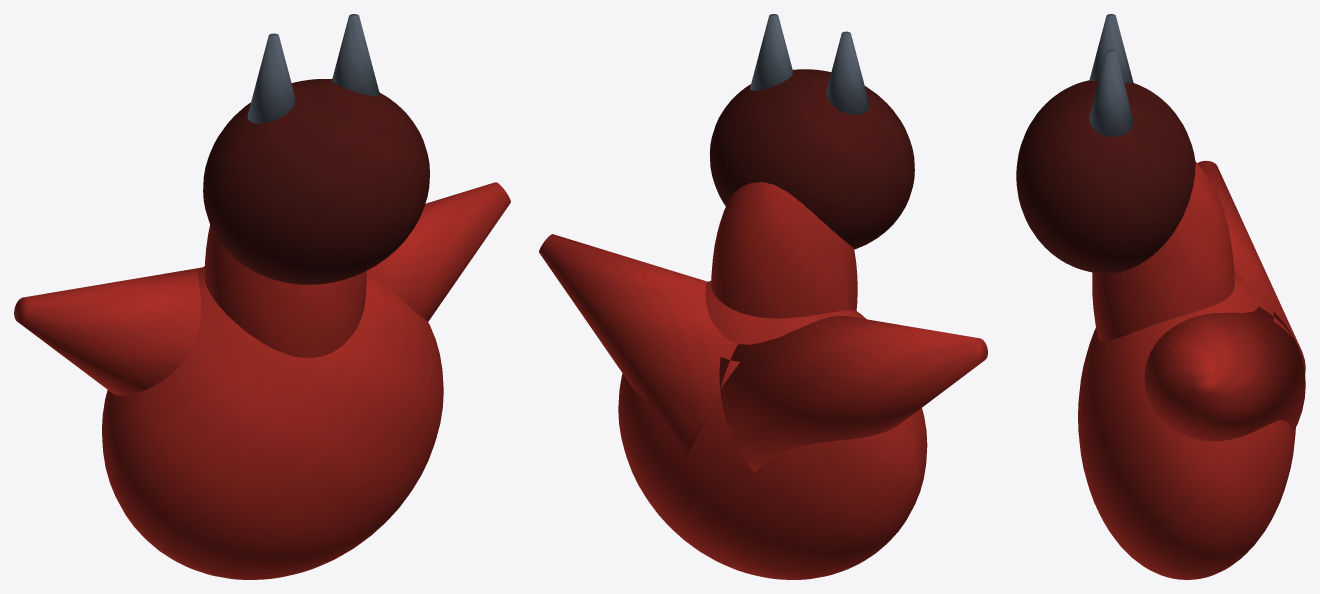
The model's file is monster_Dragon.glb.
The picture shows the model from 3 angles, left to right: view 1: azimuth 30°, elevation 25°; view 2: azimuth 150°, elevation 25°; view 3: azimuth 270°, elevation 25°; orthographic projection. The views are drawn at different scales.
Parts seen in each view (by area): view 1: Body, Head, Wing, Neck, Wing.001, Horn, Horn.001; view 2: Body, Wing, Head, Wing.001, Neck, Horn, Horn.001; view 3: Body, Head, Wing.001, Neck, Wing, Horn.001, Horn.
Part boxes in pixels (x1,y1,x2,y2): Body: (102, 266, 443, 579); Head: (203, 79, 429, 284); Wing: (14, 267, 201, 395); Neck: (204, 224, 366, 357); Wing.001: (370, 182, 510, 321); Horn: (247, 33, 295, 123); Horn.001: (332, 14, 379, 95); Body: (618, 281, 927, 579); Wing: (719, 316, 987, 472); Head: (709, 69, 914, 249); Wing.001: (539, 234, 739, 455); Neck: (711, 182, 857, 318); Horn: (826, 31, 869, 114); Horn.001: (750, 14, 793, 90); Body: (1078, 272, 1295, 579); Head: (1016, 80, 1195, 273); Wing.001: (1144, 306, 1305, 441); Neck: (1092, 161, 1234, 340); Wing: (1197, 160, 1305, 373); Horn.001: (1089, 50, 1133, 136); Horn: (1089, 14, 1133, 83).
Bounding box in the file's own units: 2.2 × 2.46 × 1.22.
3 materials, 3 textured.
